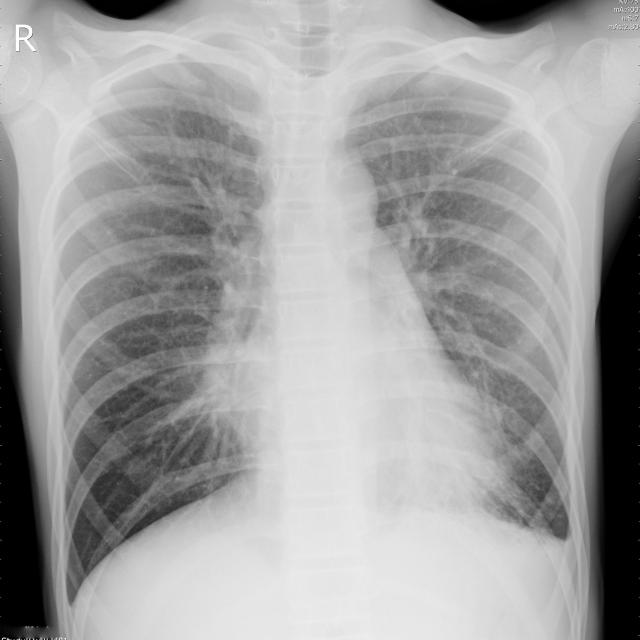low-pneumonia: (164, 185, 261, 449), (399, 176, 473, 313)
